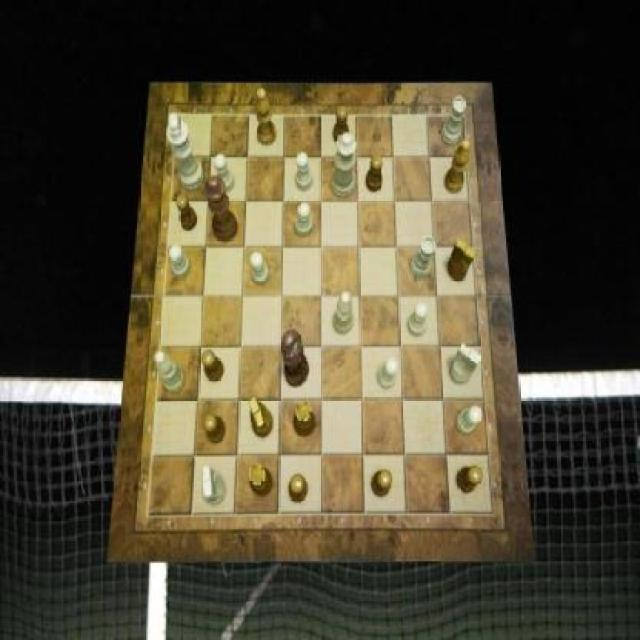bishop: (446, 138, 471, 192), (257, 88, 277, 145)
black-bishop: (280, 329, 310, 387)
black-king: (449, 238, 477, 281), (249, 397, 274, 438)
black-knight: (177, 192, 197, 230), (457, 466, 483, 494), (202, 351, 224, 383), (205, 414, 227, 444), (366, 155, 383, 193), (332, 106, 348, 145), (371, 471, 392, 498), (290, 474, 308, 501)
black-pawn: (205, 176, 238, 242)
black-queen: (249, 463, 273, 497), (294, 402, 316, 438)
black-rook: (156, 351, 186, 392), (334, 290, 354, 334)
white-bishop: (166, 112, 204, 190)
white-king: (449, 344, 482, 384), (202, 466, 226, 506)
white-knight: (169, 244, 192, 278), (457, 406, 483, 436), (214, 155, 234, 193), (408, 302, 428, 336), (377, 357, 398, 389), (297, 152, 314, 191), (250, 250, 268, 284), (297, 202, 314, 236)
white-pawn: (330, 132, 358, 198)
white-queen: (443, 97, 468, 146), (412, 235, 437, 278)
